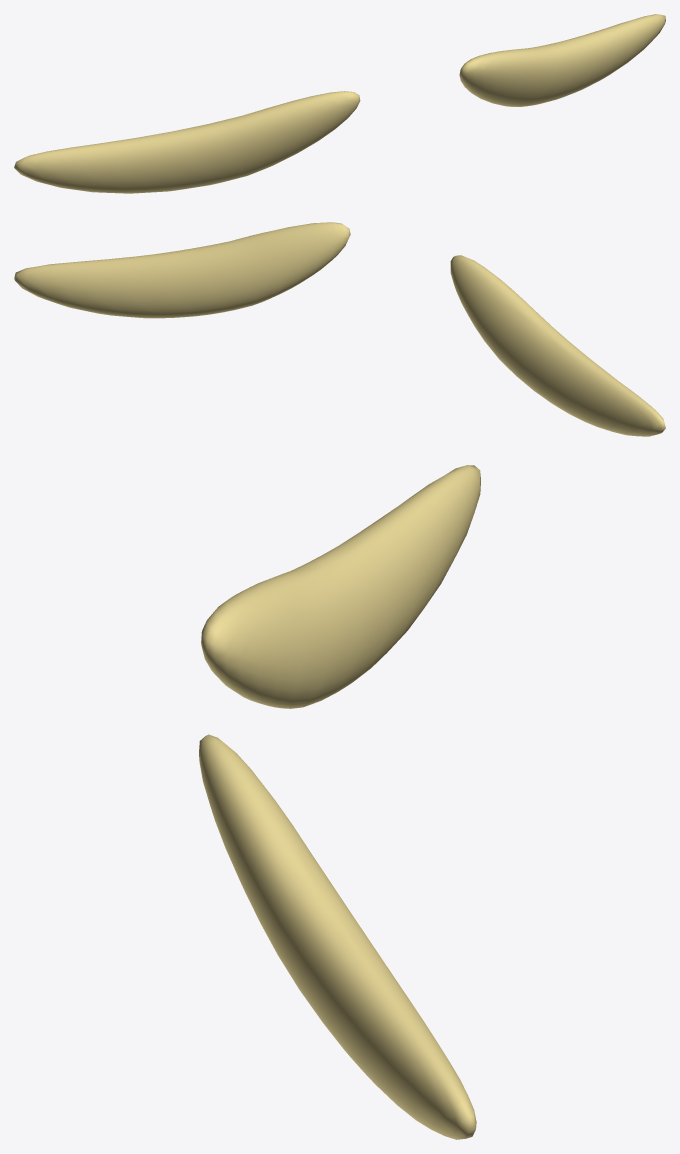
Rendered from MannaquinBlinkIsolated.dae.
The picture shows the model from 3 angles, top to bottom: view 1: azimuth 30°, elevation 25°; view 2: azimuth 150°, elevation 25°; view 3: azimuth 270°, elevation 25°; orthographic projection. The views are drawn at different scales.
Parts seen in each view (by area): view 1: Sphere_001, Sphere_004; view 2: Sphere_004, Sphere_001; view 3: Sphere_004, Sphere_001.
Part boxes in pixels (<box>): Sphere_001: <box>14,91,360,193</box>; Sphere_004: <box>459,14,665,106</box>; Sphere_004: <box>14,222,350,318</box>; Sphere_001: <box>450,255,665,436</box>; Sphere_004: <box>199,734,476,1139</box>; Sphere_001: <box>201,465,480,708</box>.
Size of the model in its own units: 0.8506 by 0.1598 by 0.122.
